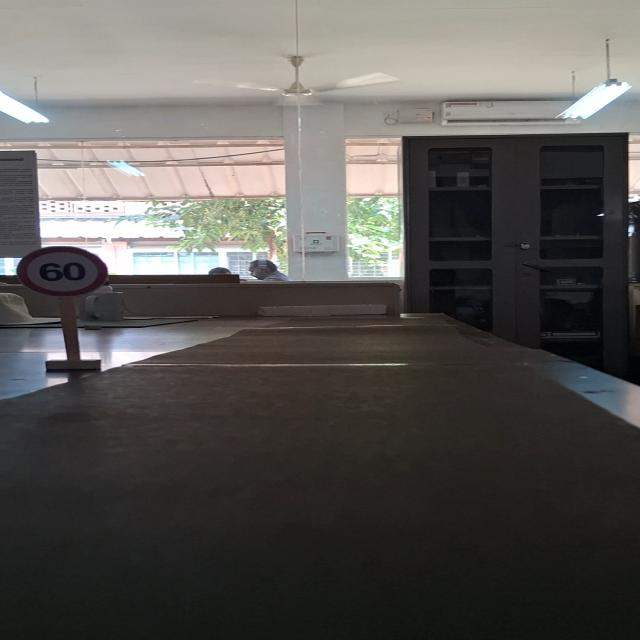Speed60: (14, 245, 110, 298)
